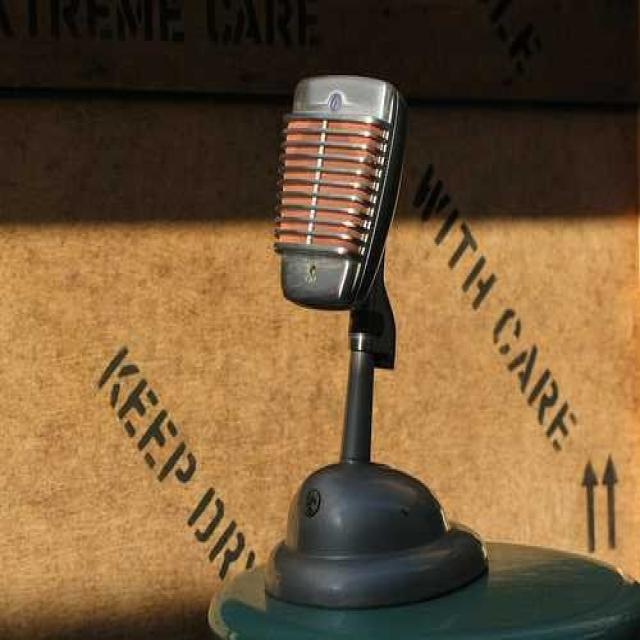microphone: (275, 75, 408, 318)
